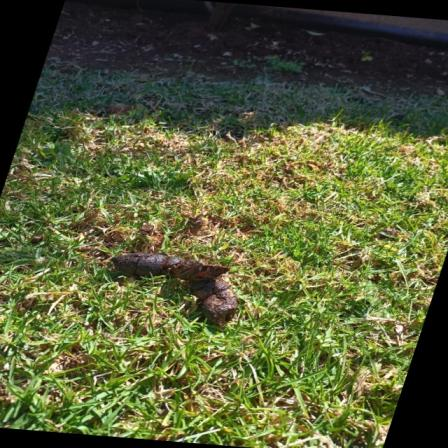dog-poop: (108, 244, 254, 322)
